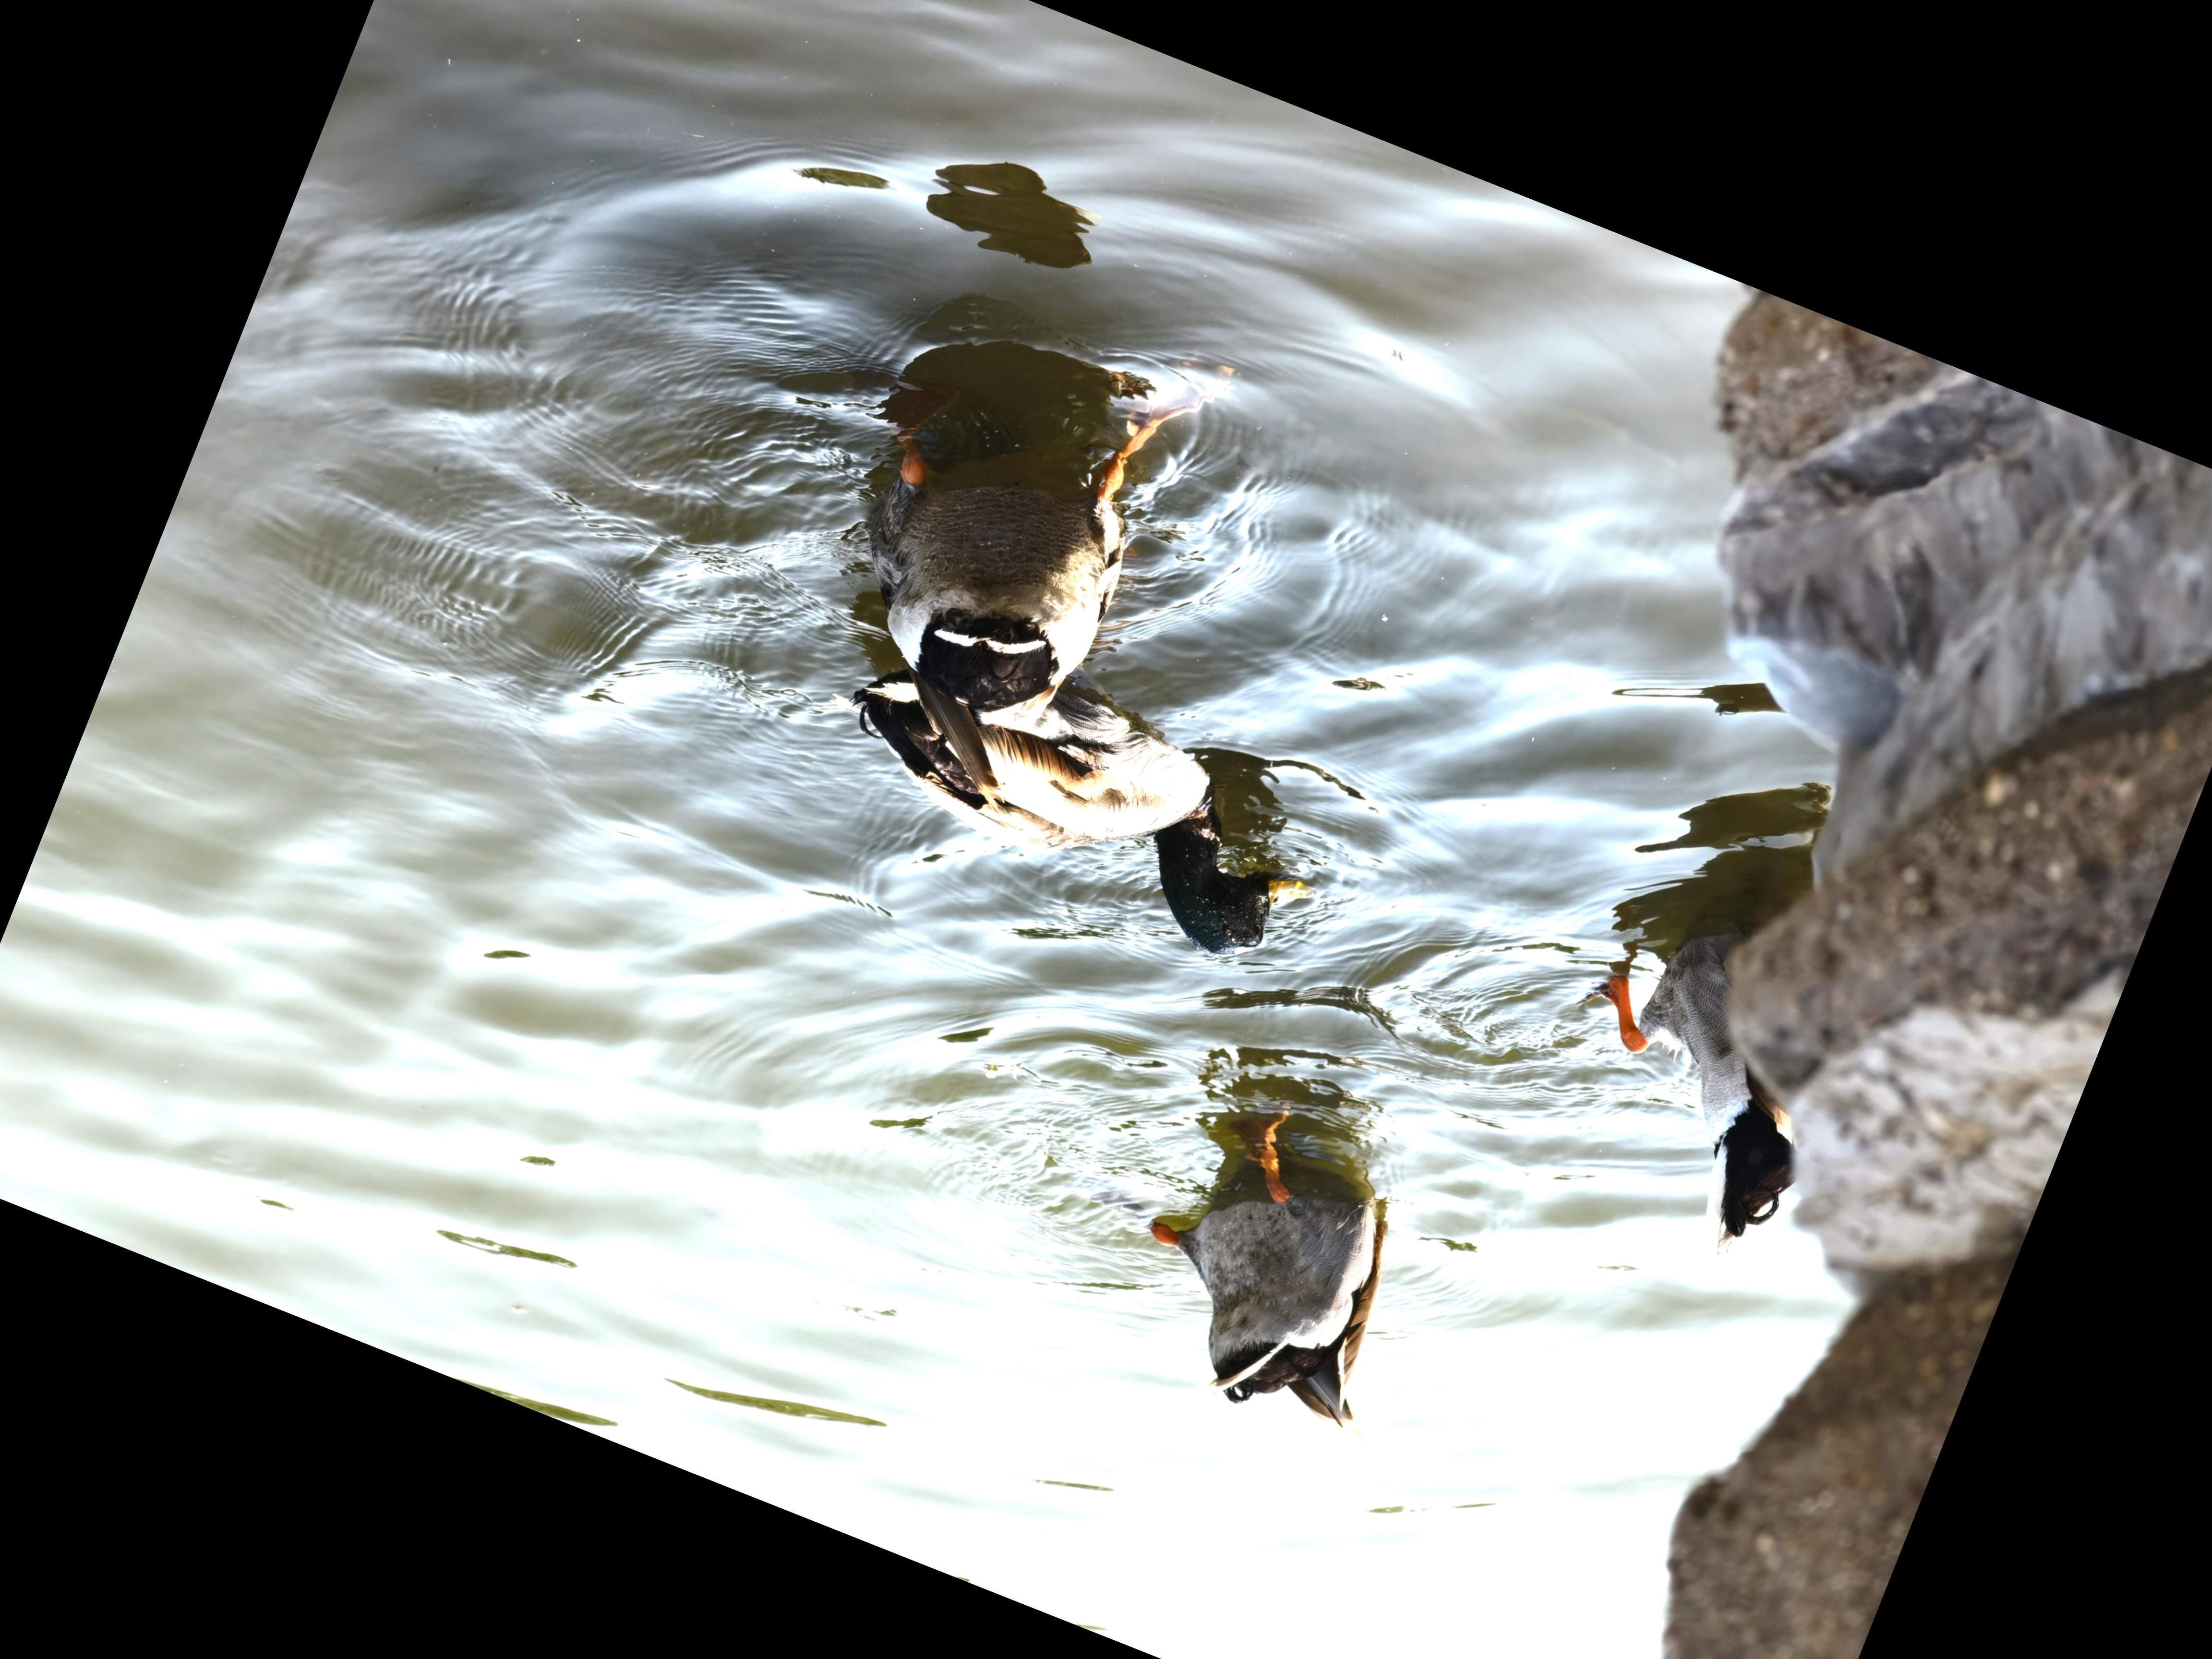duck: (756, 612, 1350, 1009), (789, 281, 1226, 760), (1054, 1047, 1477, 1469), (1494, 925, 1853, 1270)
